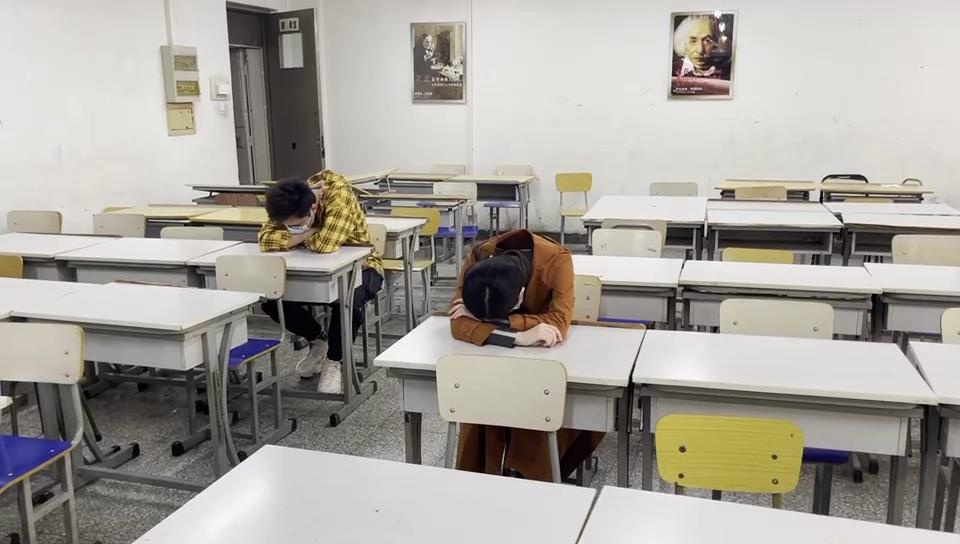sleep: (445, 230, 575, 347), (257, 172, 361, 253)
